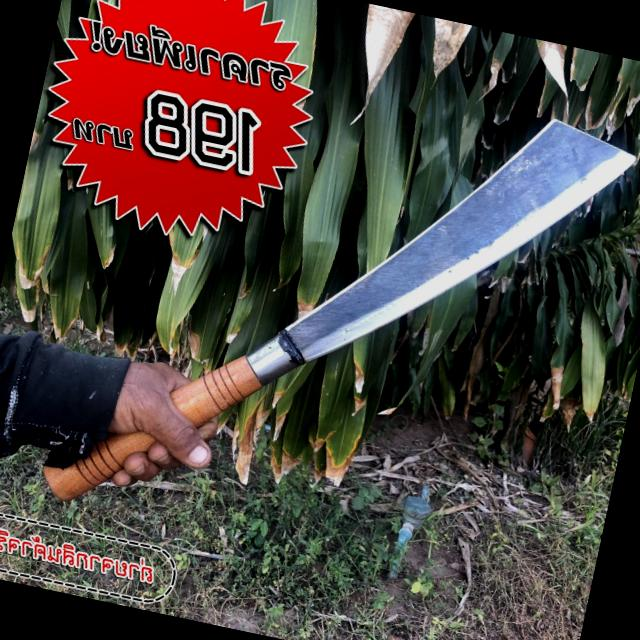eto: (0, 112, 640, 505)
